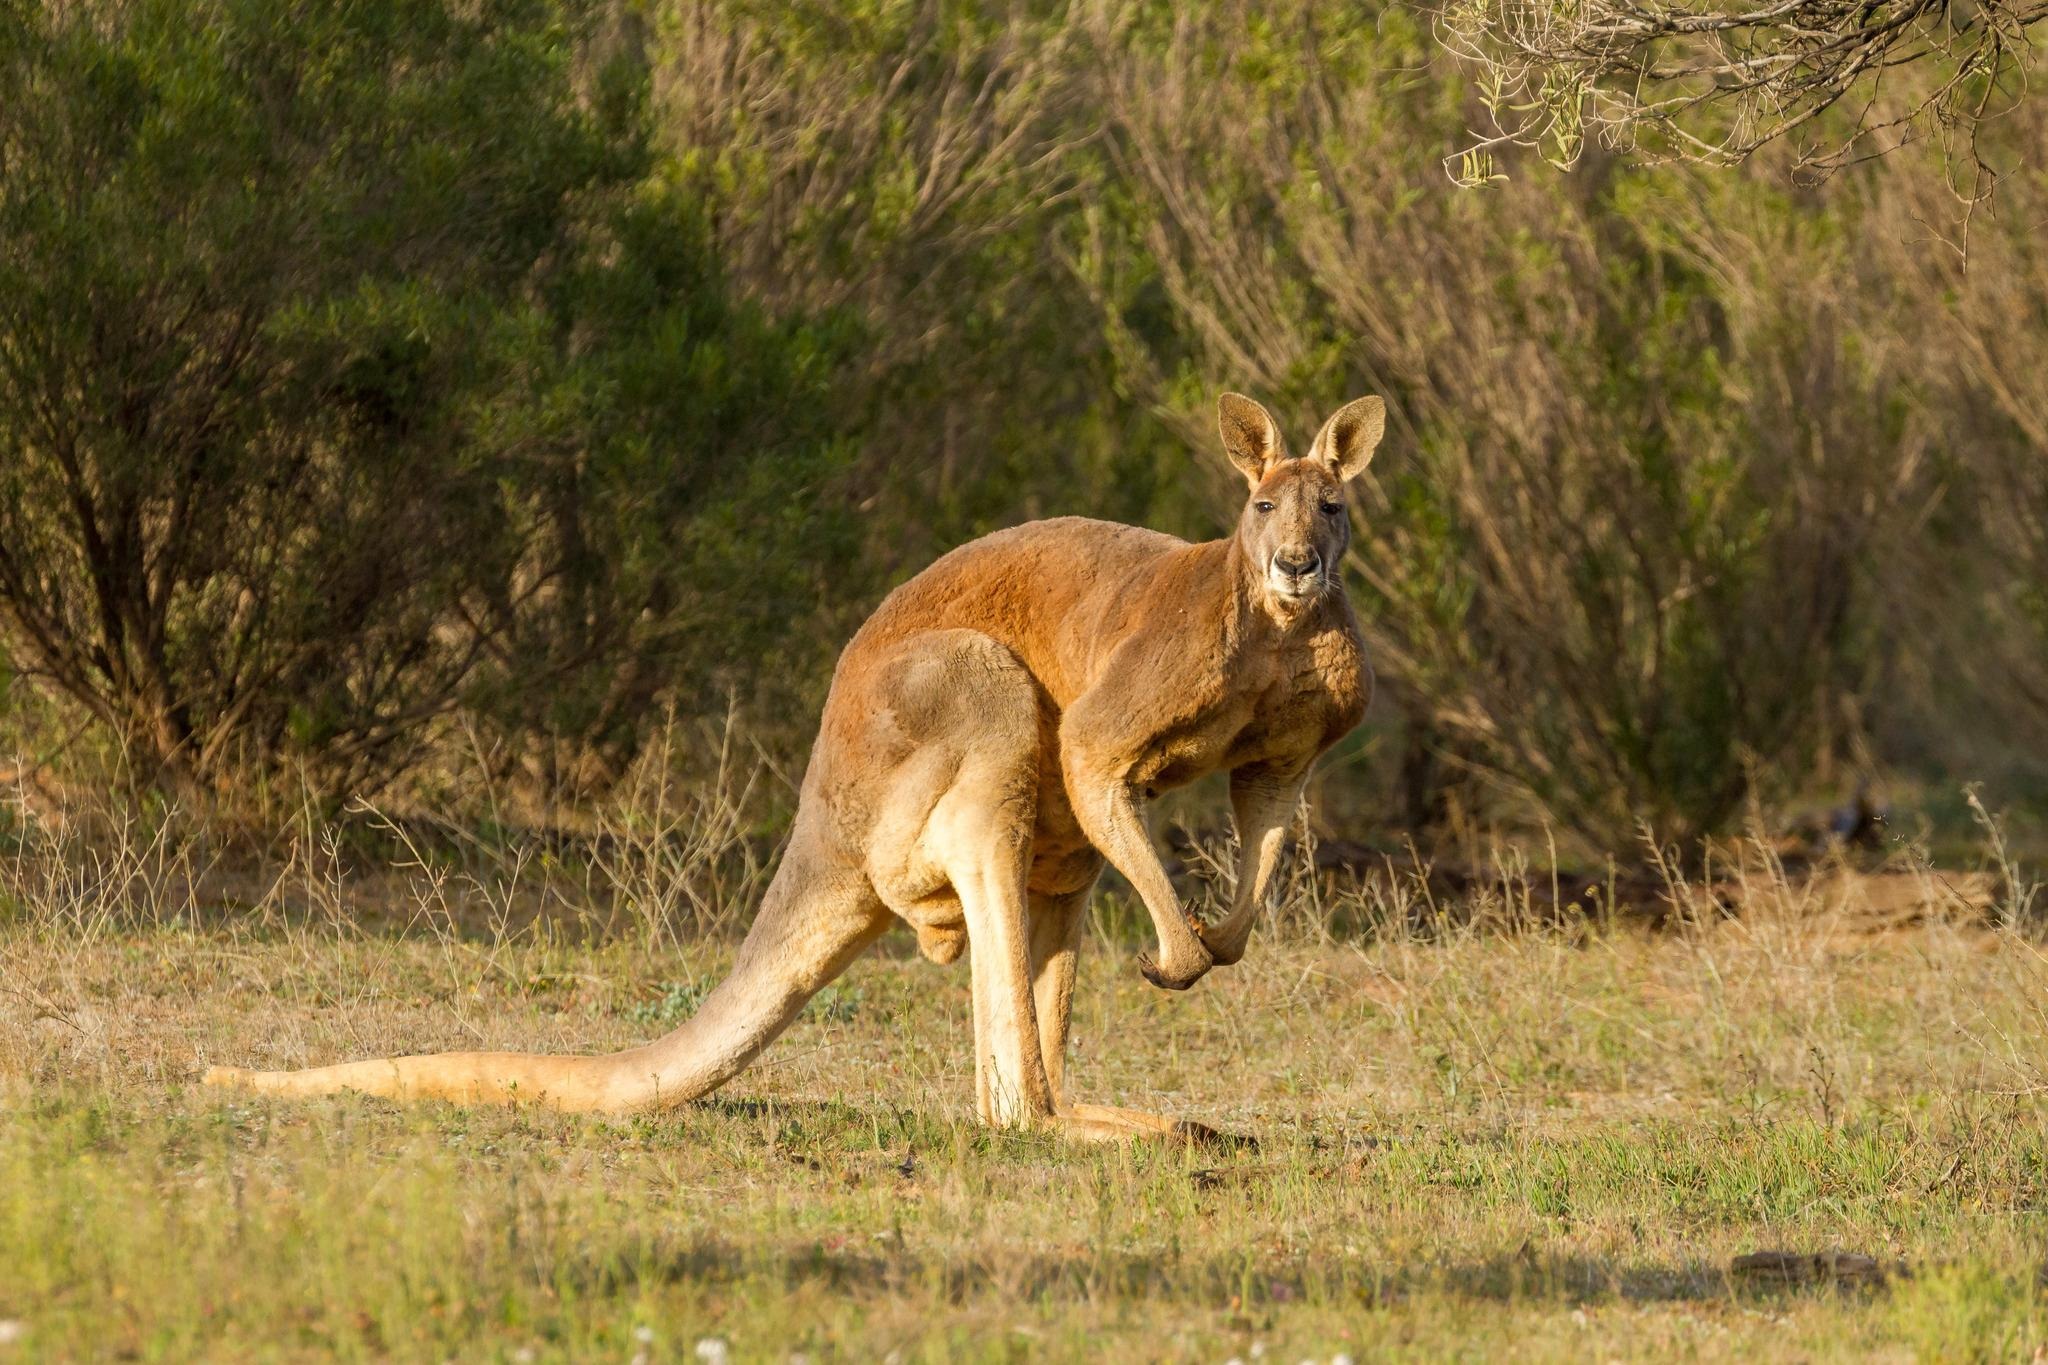Red kangaroo: (40, 395, 1402, 1179)
